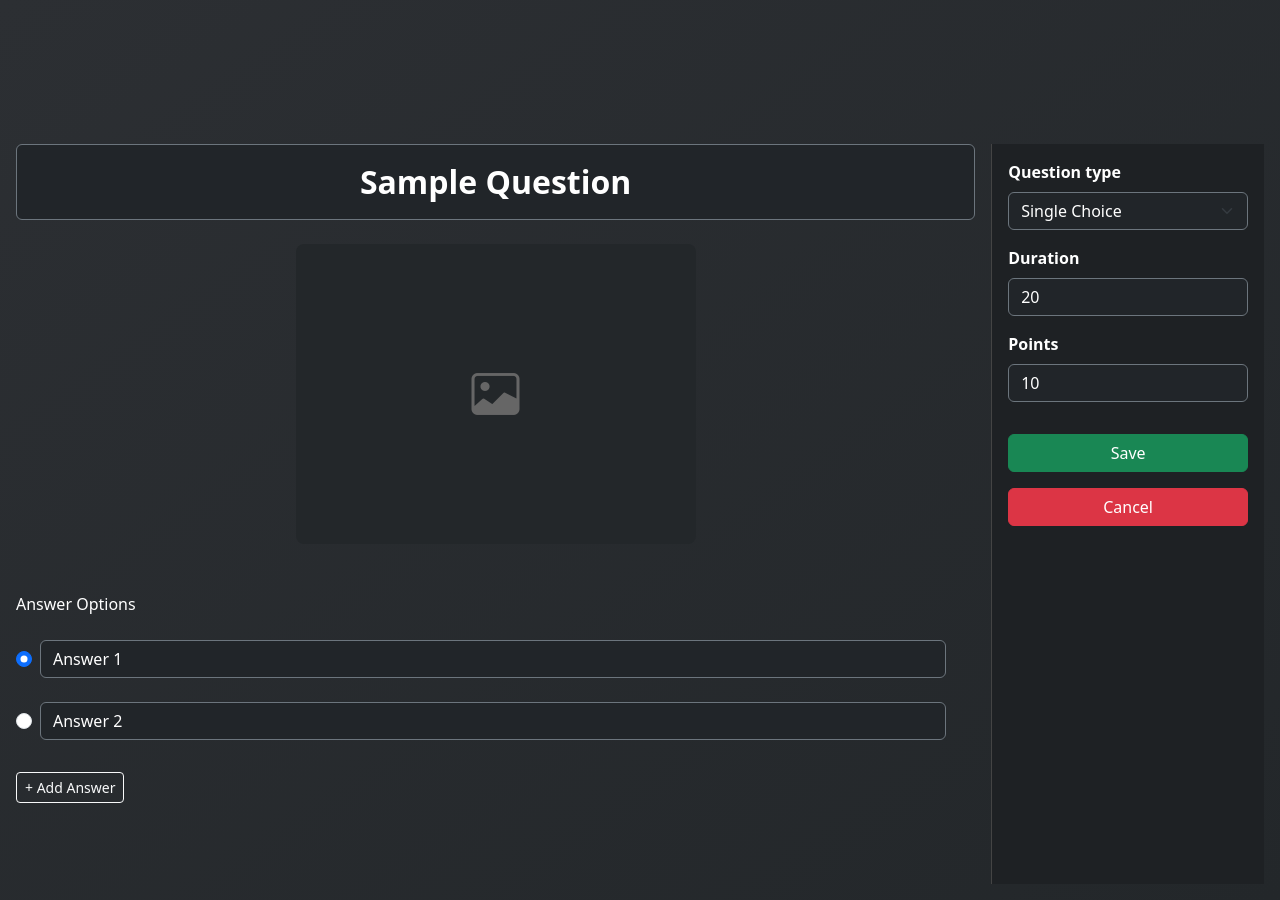
Test: Modal functionality in QuestionDetails › renders correct input for YouTube selection
Wait for the media thumbnail to show up
Click the element with test id "media-box" at [496, 394], box [296,244,696,544]
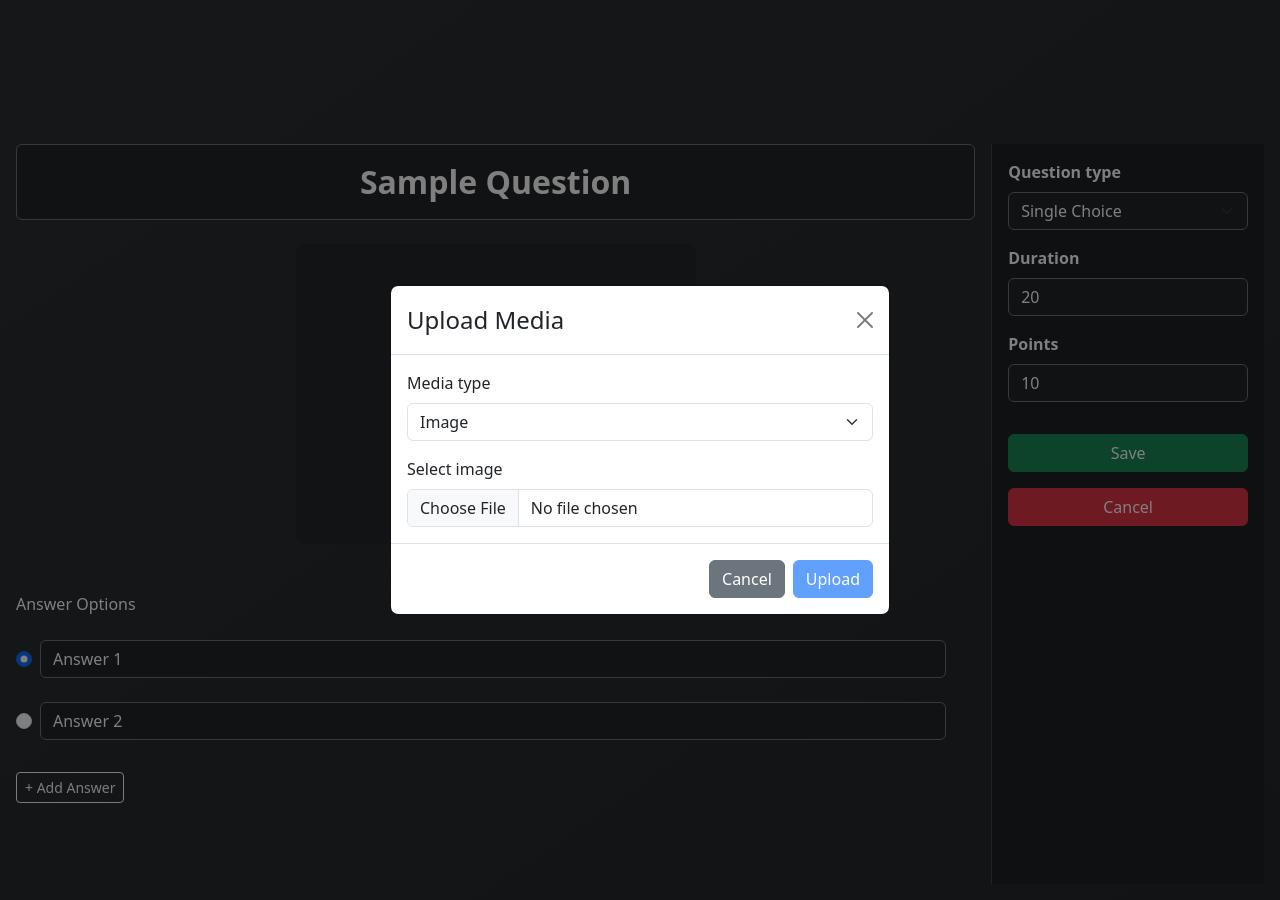
Expected: the dropdown with test id "media-type-select" is shown
Select "Youtube link" in the dropdown with test id "media-type-select" at [640, 422], box [407,403,873,441]
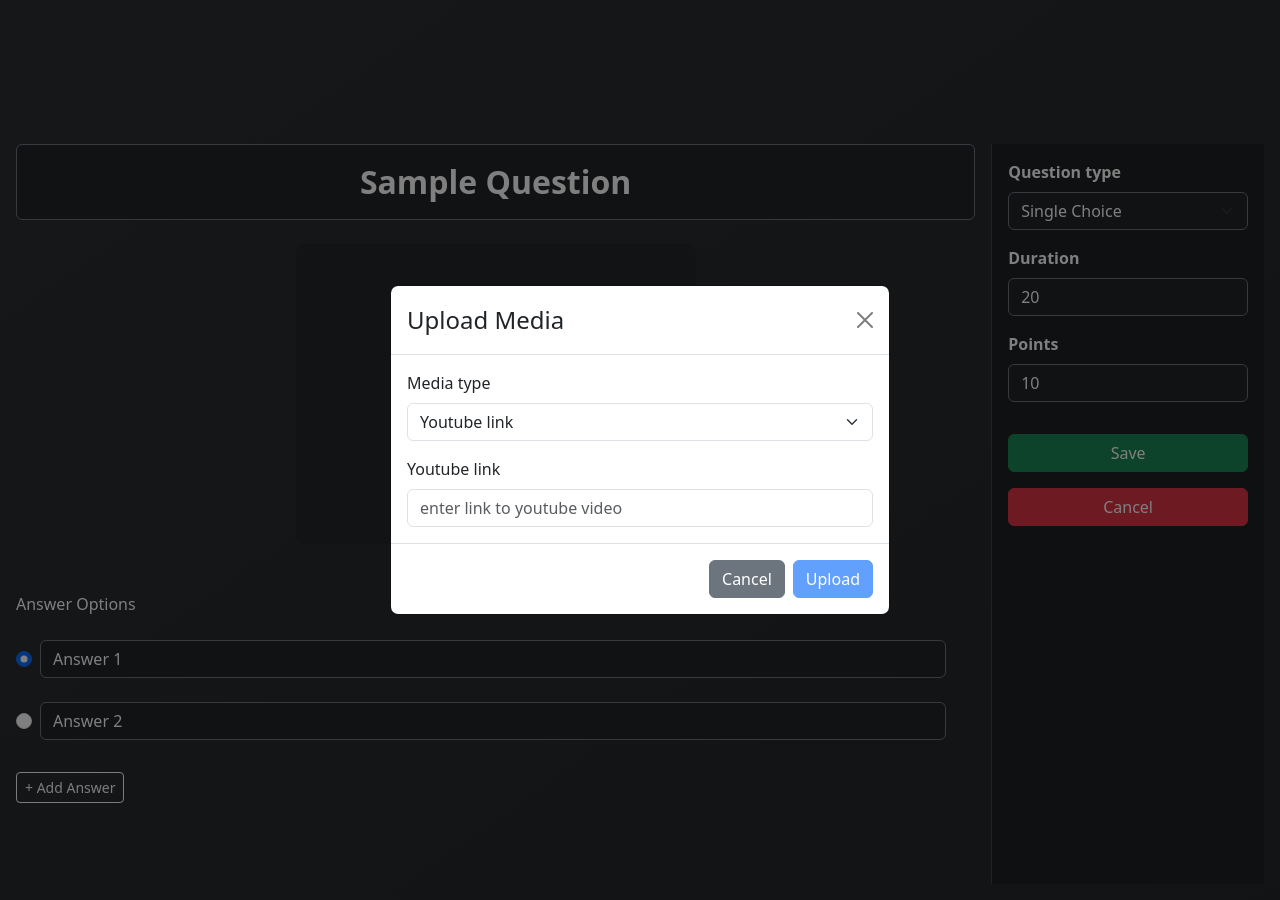
Expected: the button "Upload" is disabled, [793,560,873,598]
Expected: the field with placeholder "enter link to youtube video" is shown, [407,489,873,527]
